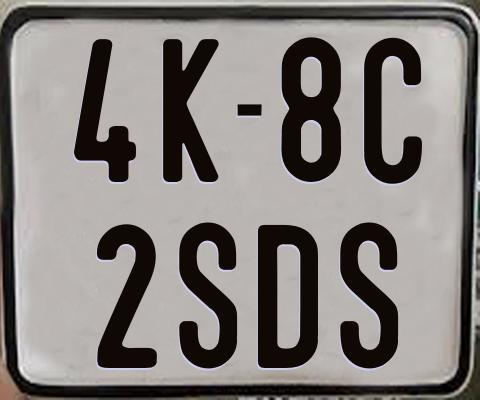2: (96, 224, 158, 369)
4: (74, 37, 139, 182)
8: (280, 36, 344, 185)
C: (362, 35, 421, 183)
D: (256, 225, 319, 371)
K: (160, 36, 216, 184)
S: (339, 222, 402, 369), (177, 221, 235, 373)
